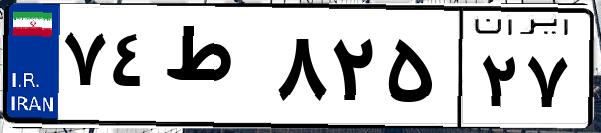2: (330, 28, 385, 110), (475, 38, 525, 113)
4: (110, 28, 158, 98)
5: (385, 28, 445, 110)
7: (57, 26, 110, 100), (525, 38, 570, 115)
8: (270, 28, 330, 110)
ط: (158, 20, 270, 120)
